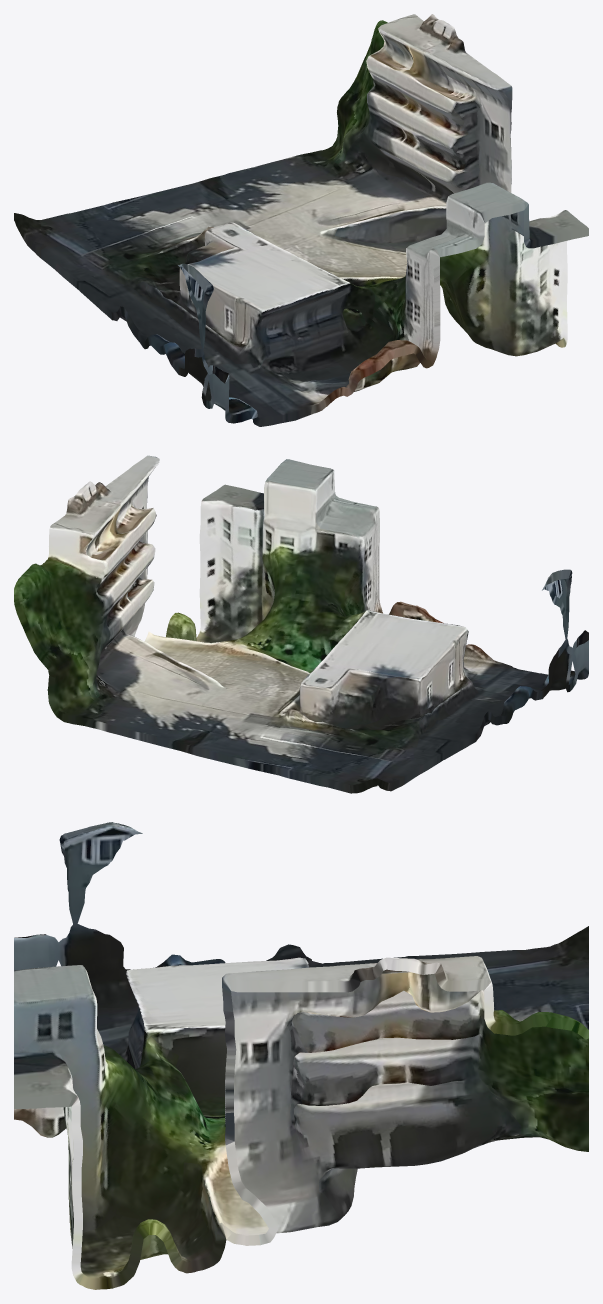
The model's file is z20-167718-405197-h0-yup-uvflip-v3-world.glb.
3 views of the same model, one above another, from view 1: azimuth 30°, elevation 25°; view 2: azimuth 150°, elevation 25°; view 3: azimuth 270°, elevation 25° (orthographic). The views are drawn at different scales.
Bounding box in the file's own units: 30.16 × 19.24 × 30.32.
Materials: 1 (1 with a texture image).
